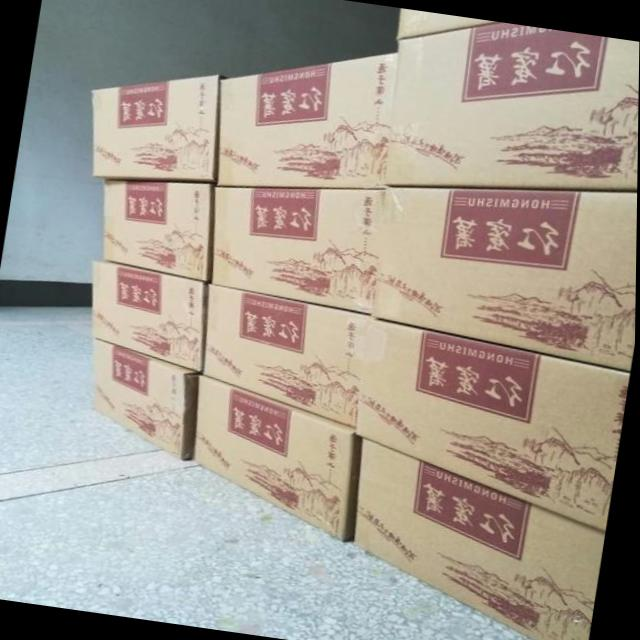box: (357, 317, 627, 538), (344, 436, 607, 640), (375, 187, 638, 371), (384, 21, 640, 190), (195, 373, 358, 541), (216, 50, 397, 187), (203, 281, 369, 427), (211, 186, 384, 317), (91, 261, 207, 374), (91, 75, 217, 179), (91, 340, 202, 457), (102, 181, 213, 280), (397, 8, 493, 39)
